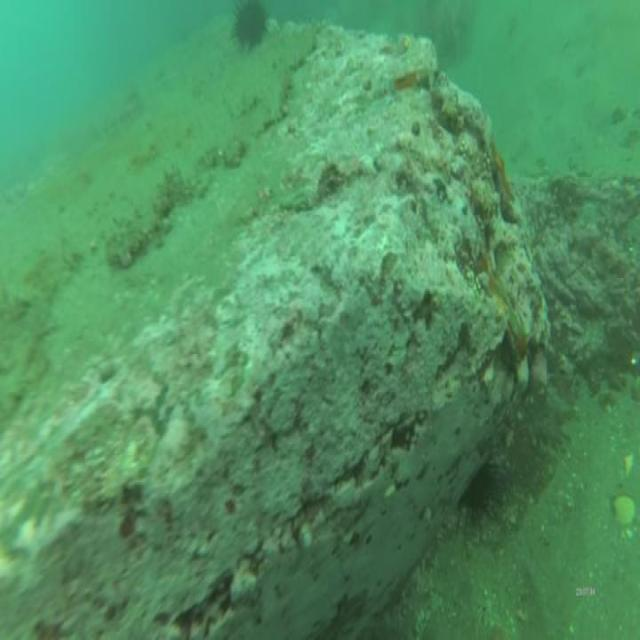echinus: (459, 458, 498, 522), (228, 0, 272, 52)
